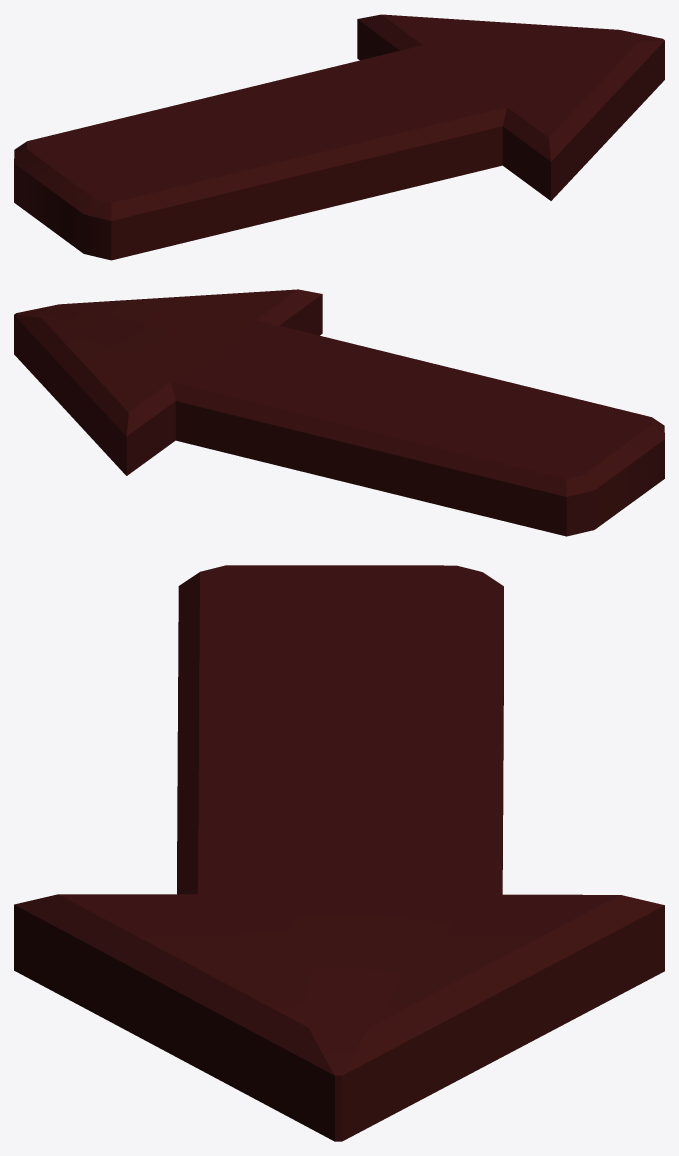
File: Arrow.fbx
3 views of the same model, one above another, from view 1: azimuth 30°, elevation 25°; view 2: azimuth 150°, elevation 25°; view 3: azimuth 270°, elevation 25° (orthographic). The views are drawn at different scales.
Visible parts, largest first — view 1: Arrow; view 2: Arrow; view 3: Arrow.
Boxes of the visible parts, box(x1,y1,x2,y2) form: Arrow: box(14, 14, 664, 260); Arrow: box(14, 289, 664, 536); Arrow: box(14, 565, 664, 1141).
Size of the model in its own units: 185 by 14.73 by 102.
